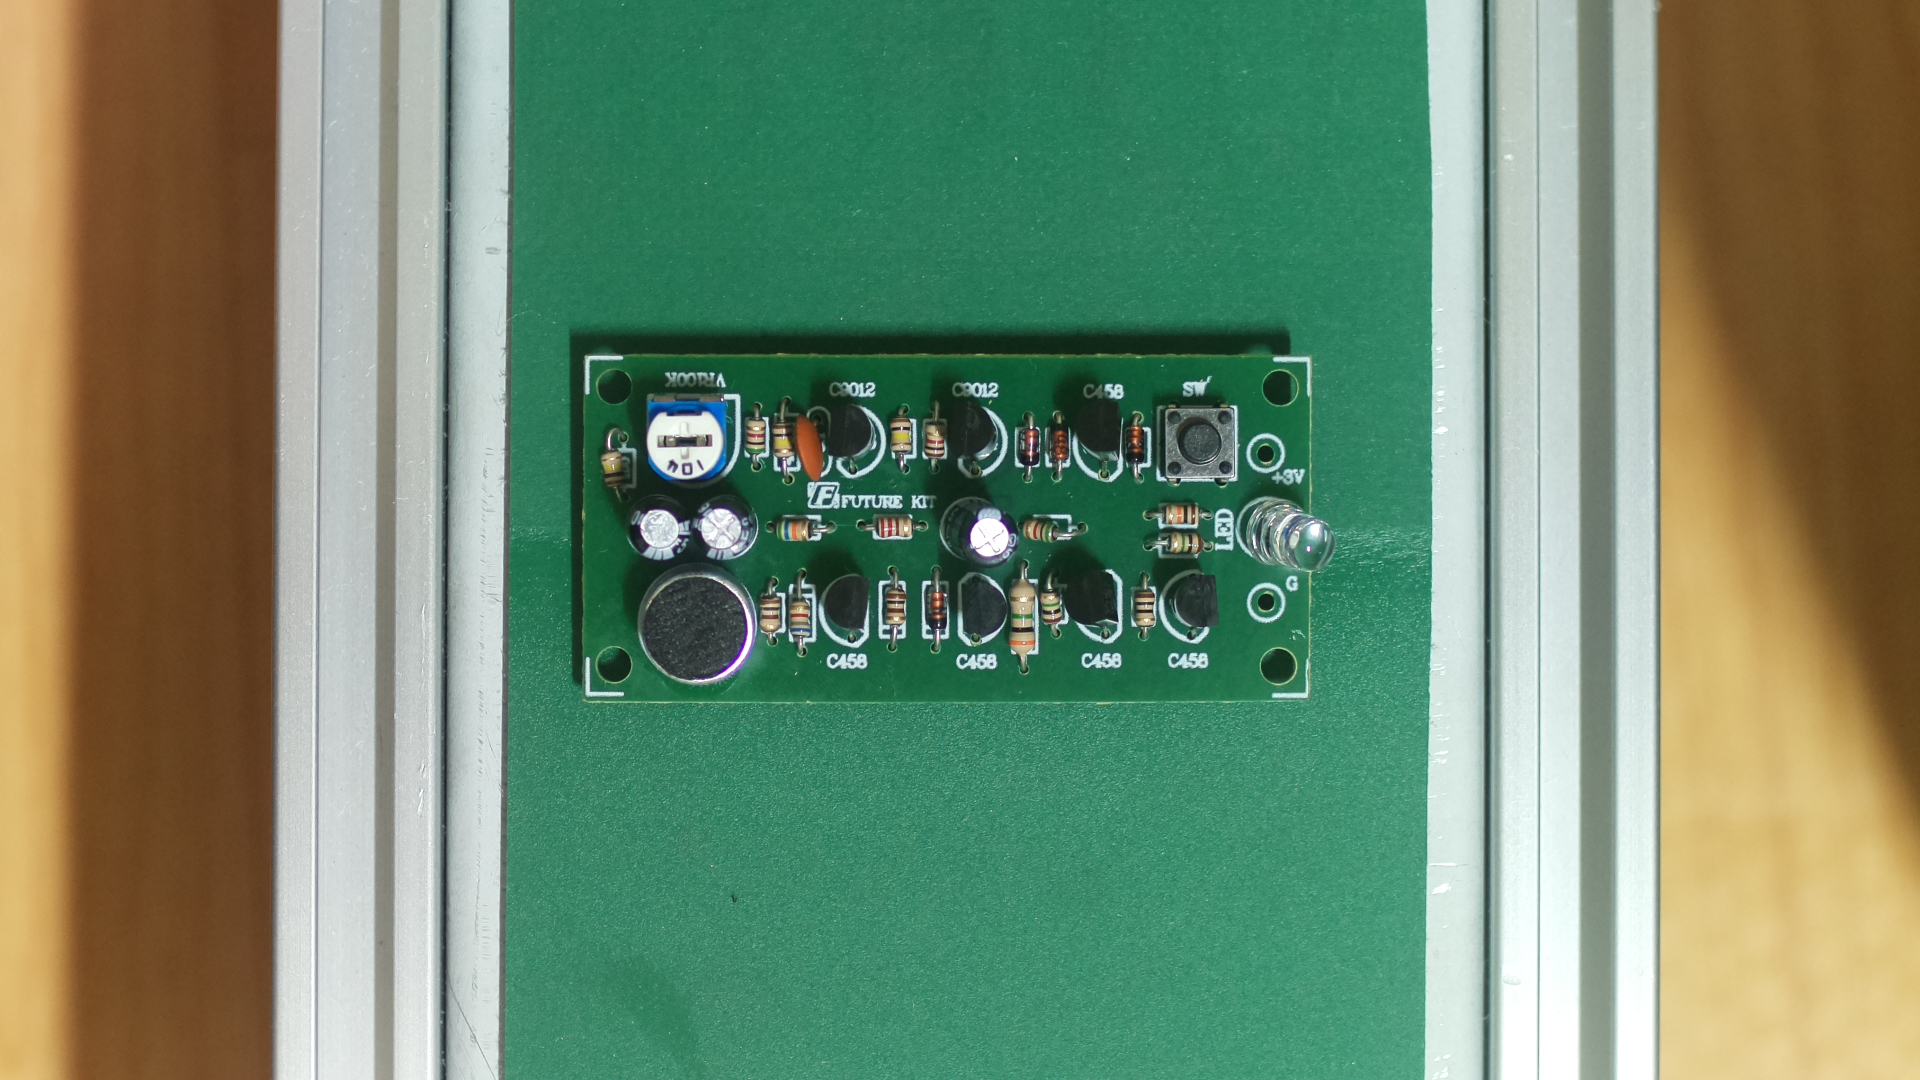A_Misordered: (571, 338, 1328, 723)
